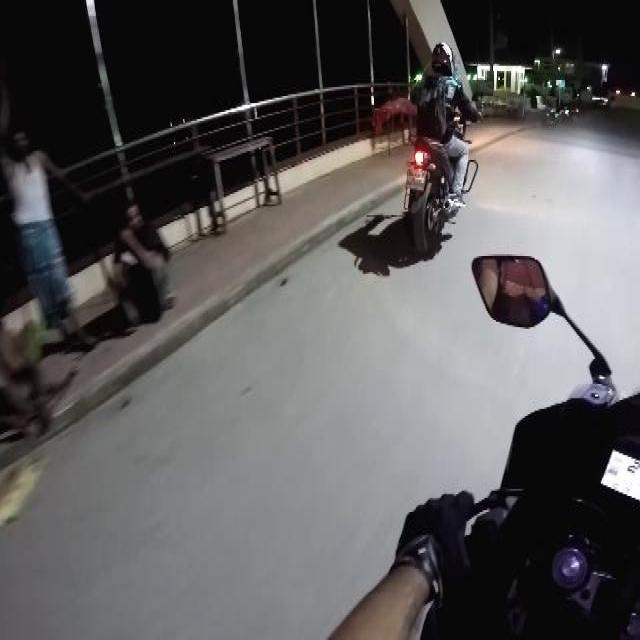motorbike: (404, 45, 478, 254)
